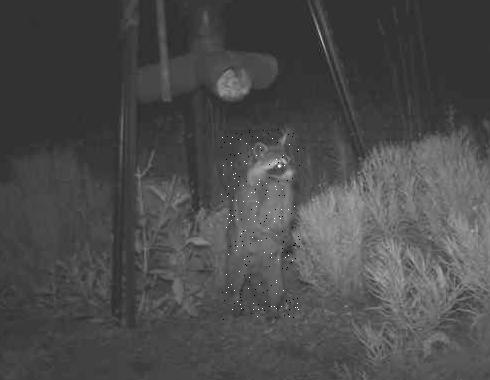Raccoon: (220, 129, 299, 322)
